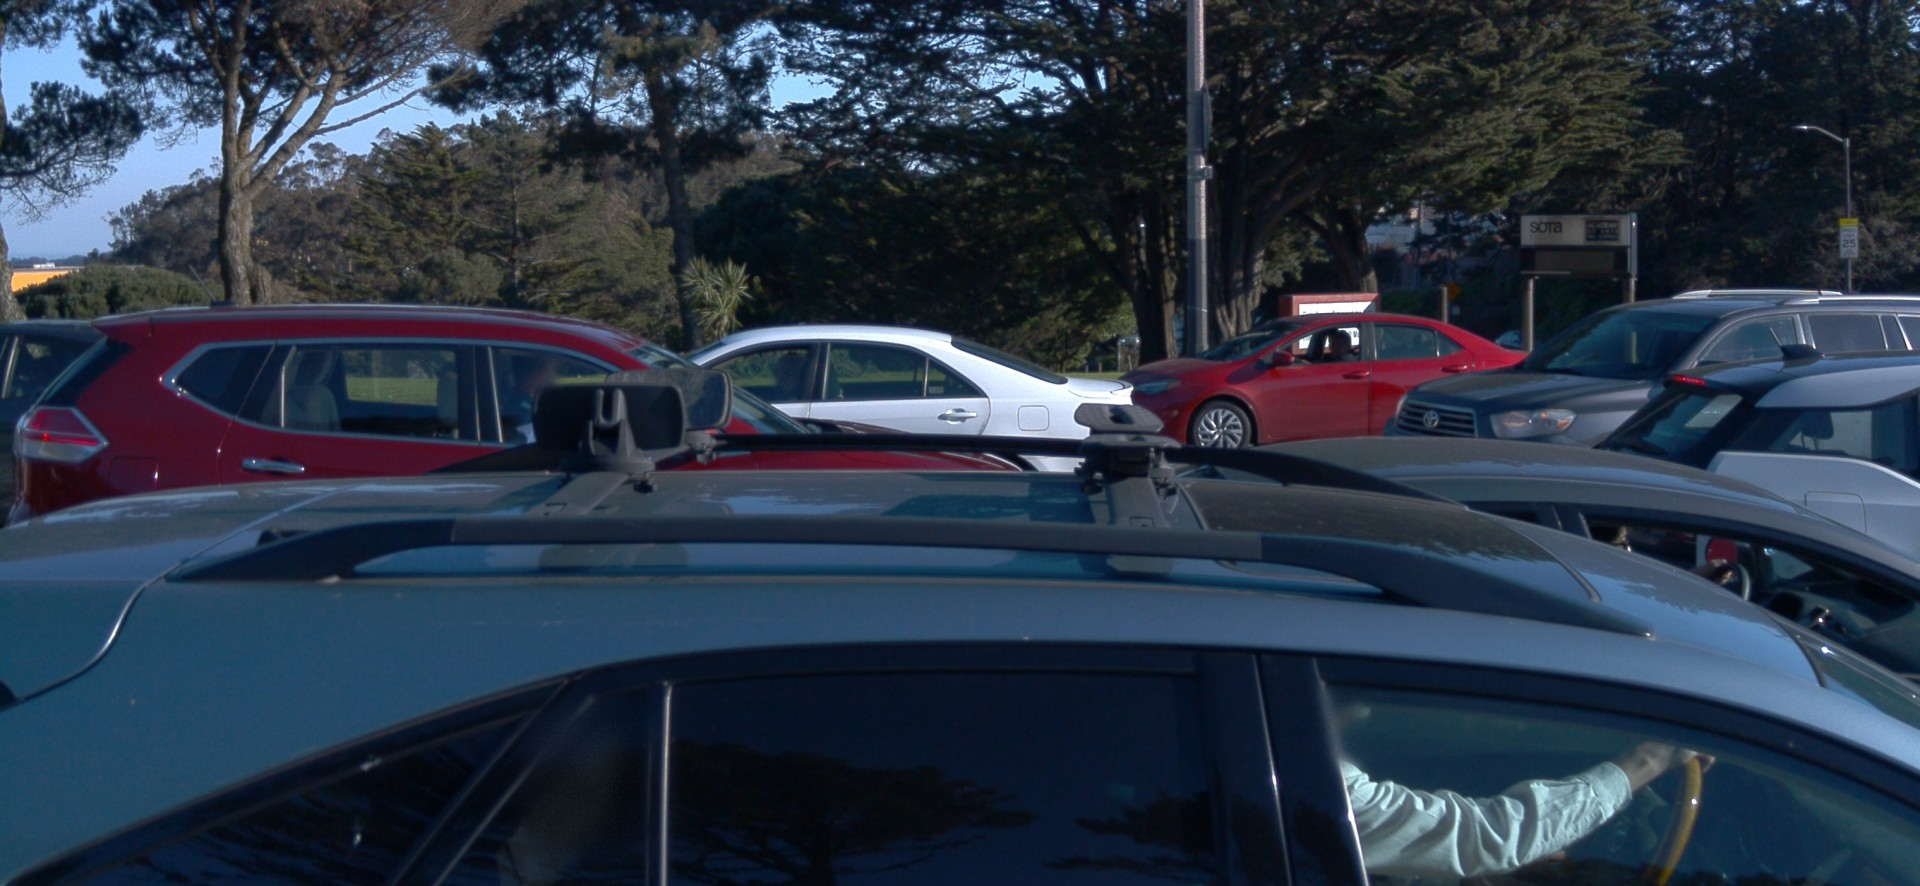TYPE_VEHICLE: (1, 363, 1920, 886), (0, 294, 1029, 532), (1162, 429, 1920, 686), (1383, 286, 1920, 447), (1588, 345, 1920, 584), (675, 322, 1137, 481), (1110, 311, 1535, 447), (0, 316, 108, 525), (1494, 327, 1550, 354), (1117, 329, 1142, 348), (1172, 327, 1182, 341)
